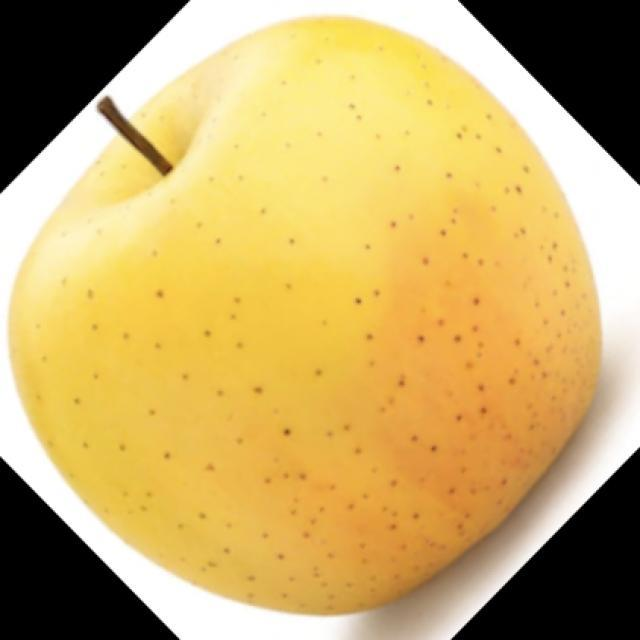Fresh Apple: (10, 12, 603, 615)
